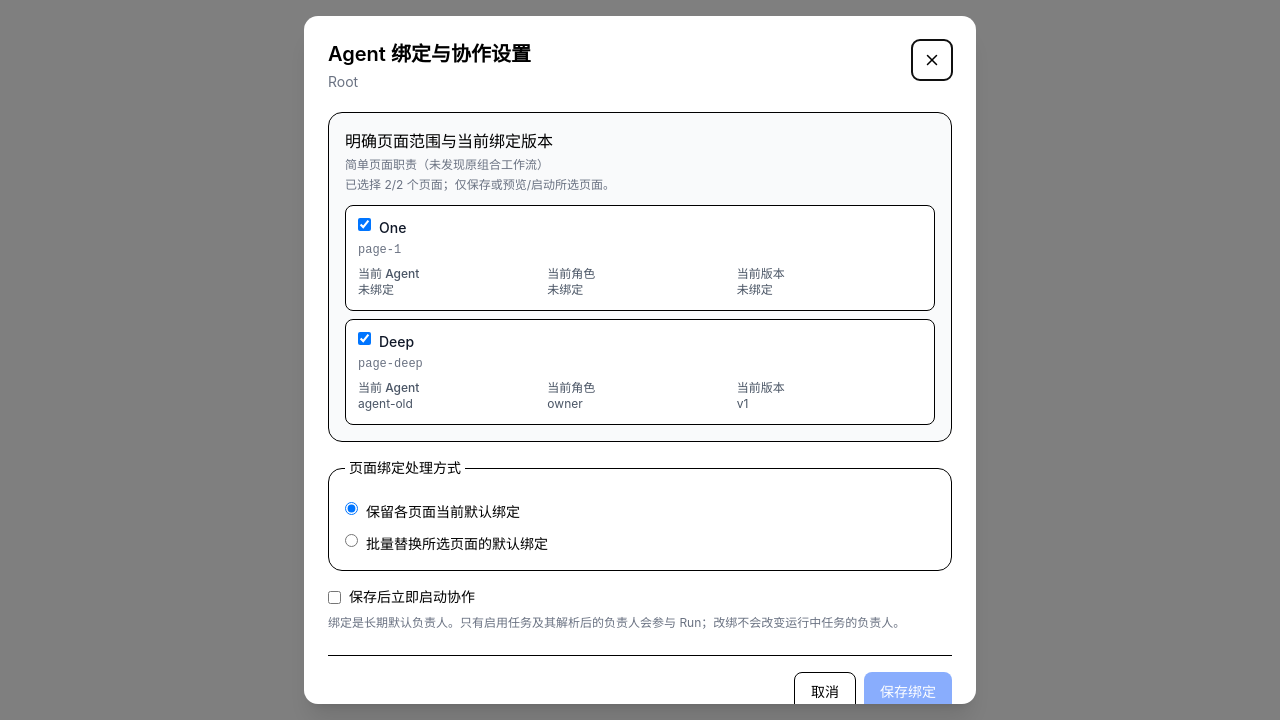
PageAgentBindingDialog › ignores an in-flight preview after the Folder Page scope changes
This screenshot has width=1280, height=720.
Expected: the element with test id "binding-page-scope" is shown, [328,112,952,442]
Click the checkbox labelled "保存后立即启动协作": [334, 597] box [328,590,341,604]
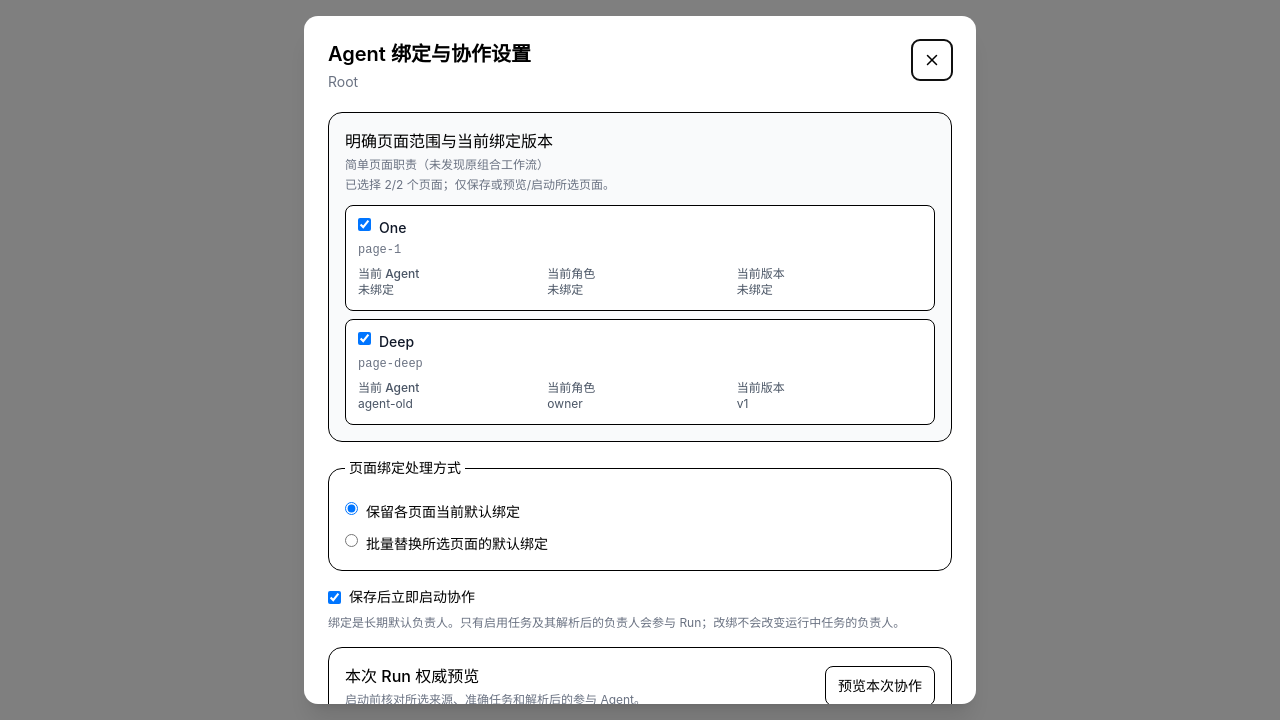
Click the button "预览本次协作": [880, 686] box [825,666,935,706]
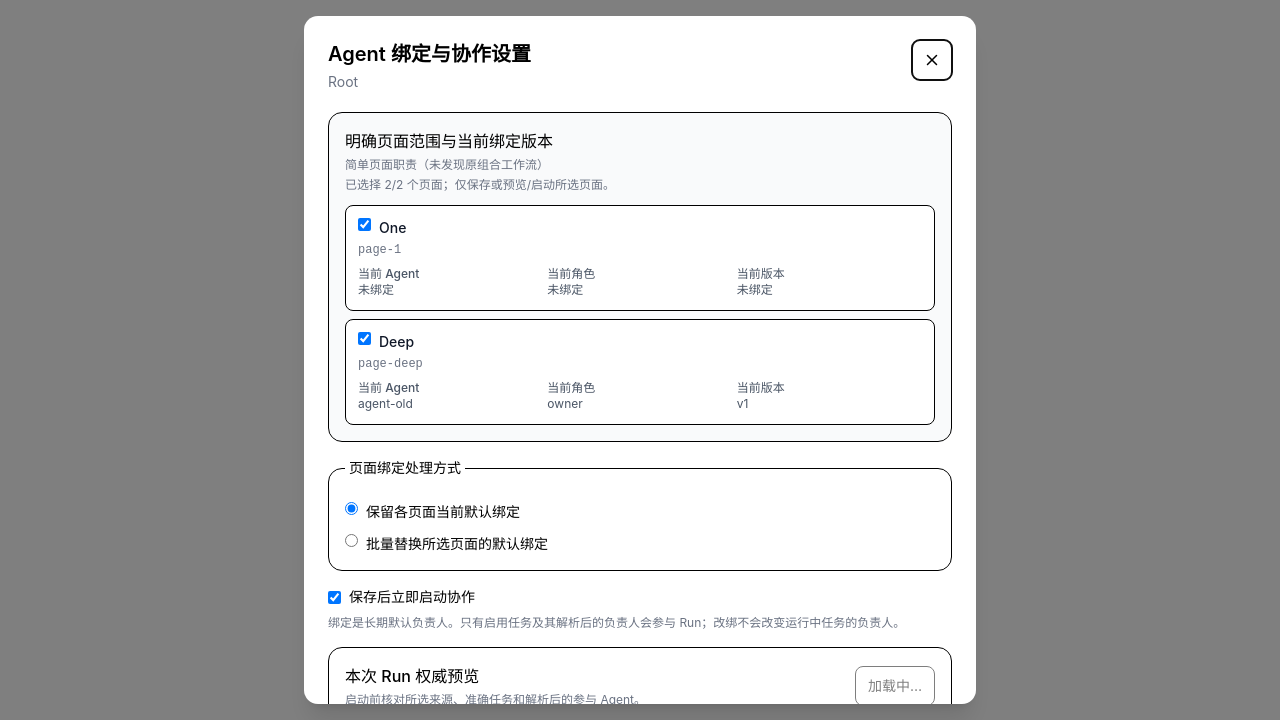
Click the checkbox named "将 Deep 纳入绑定范围": [364, 338] box [358,332,371,345]
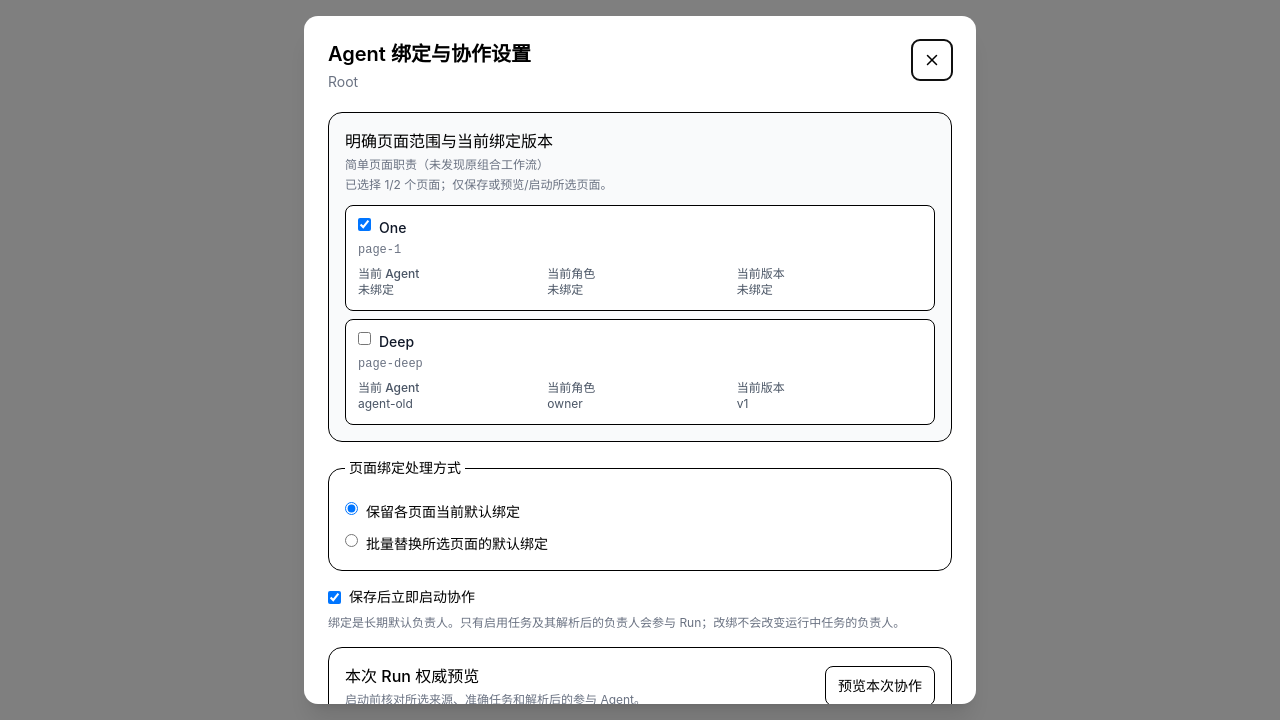
Click the button "预览本次协作": [880, 686] box [825,666,935,706]
(page scrolled)
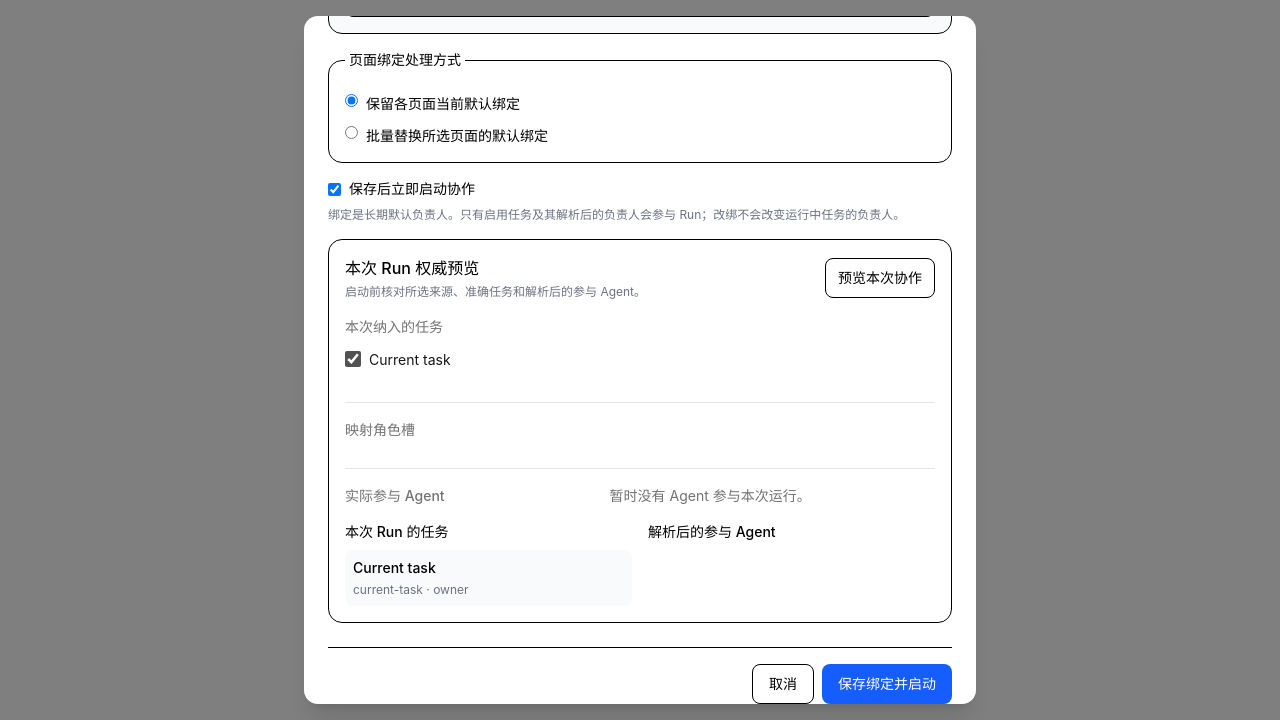
Expected: the text "Current task" below "本次纳入的任务" is shown, [369,351,451,368]
